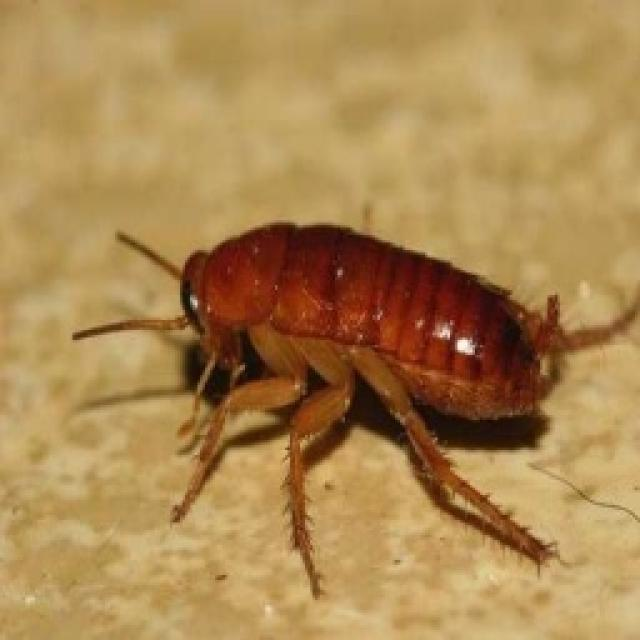cockroach: (137, 205, 591, 542)
